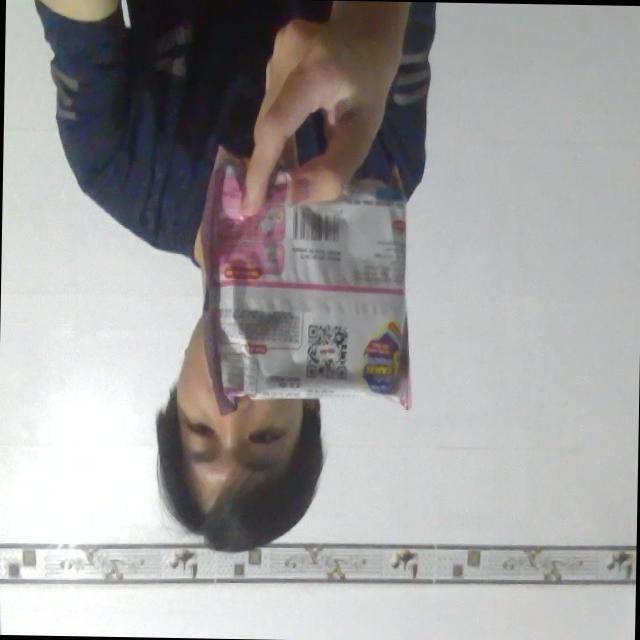mi hao hao: (188, 136, 432, 428)
